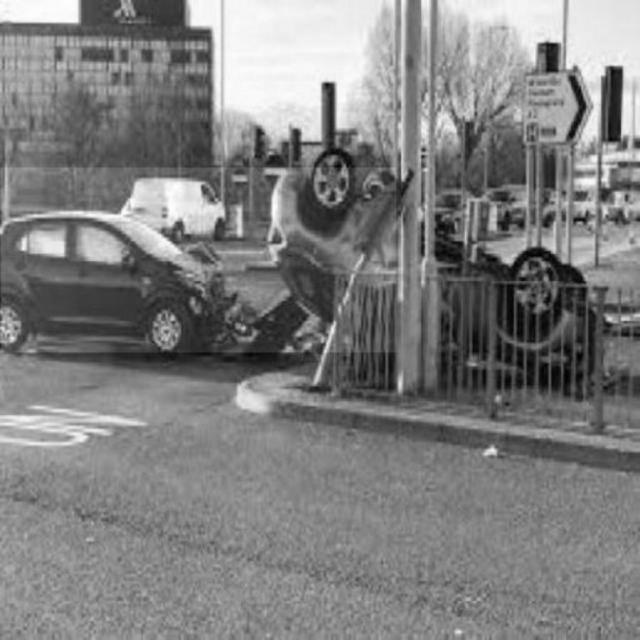accident: (1, 169, 395, 354)
